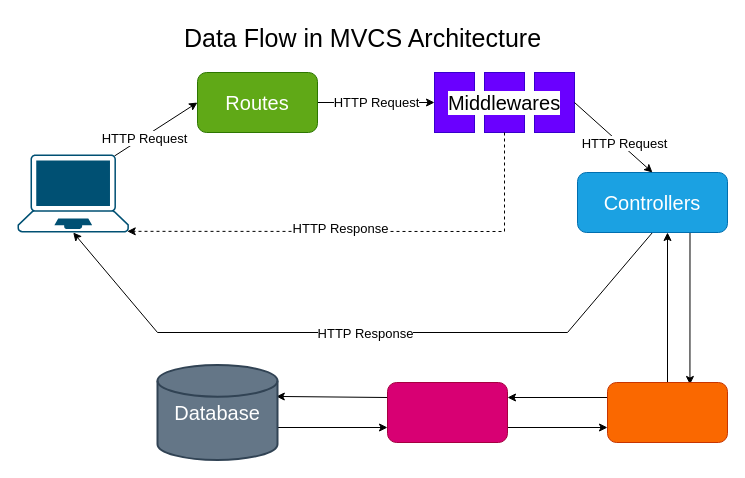
This 745x478 diagram has some shape labels left out. Each missing label, with the centre of its shape:
Models: the point at 447,412
Services: the point at 667,412
